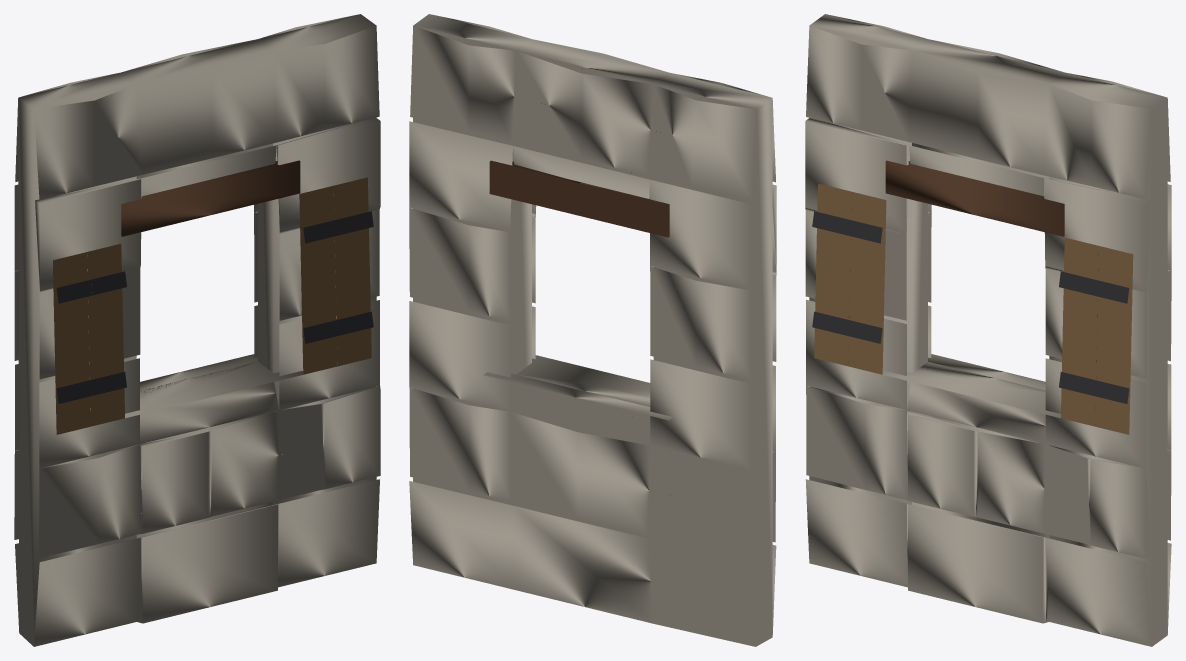
Rendered from wall_stone_window_lod1.glb.
3 renders of one model, left to right at view 1: azimuth 30°, elevation 25°; view 2: azimuth 150°, elevation 25°; view 3: azimuth 330°, elevation 25°, orthographic.
Bounding box in the file's own units: 2 × 3 × 0.36.
